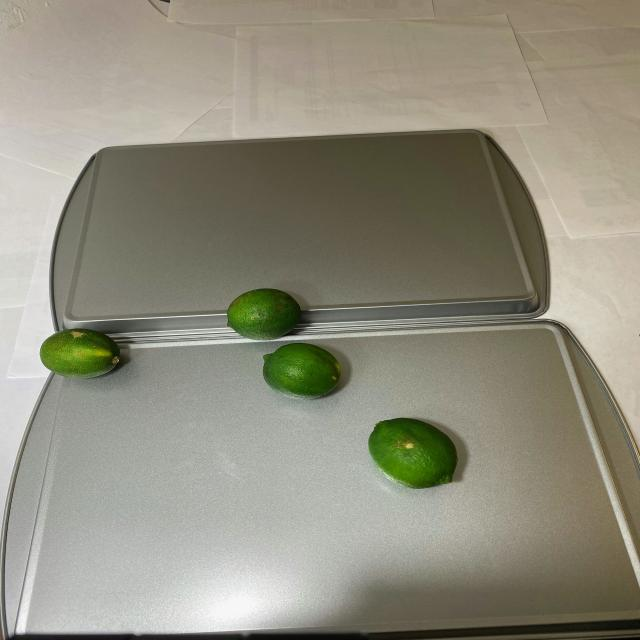lemon: (221, 287, 341, 401), (368, 416, 462, 501), (37, 327, 118, 380)
